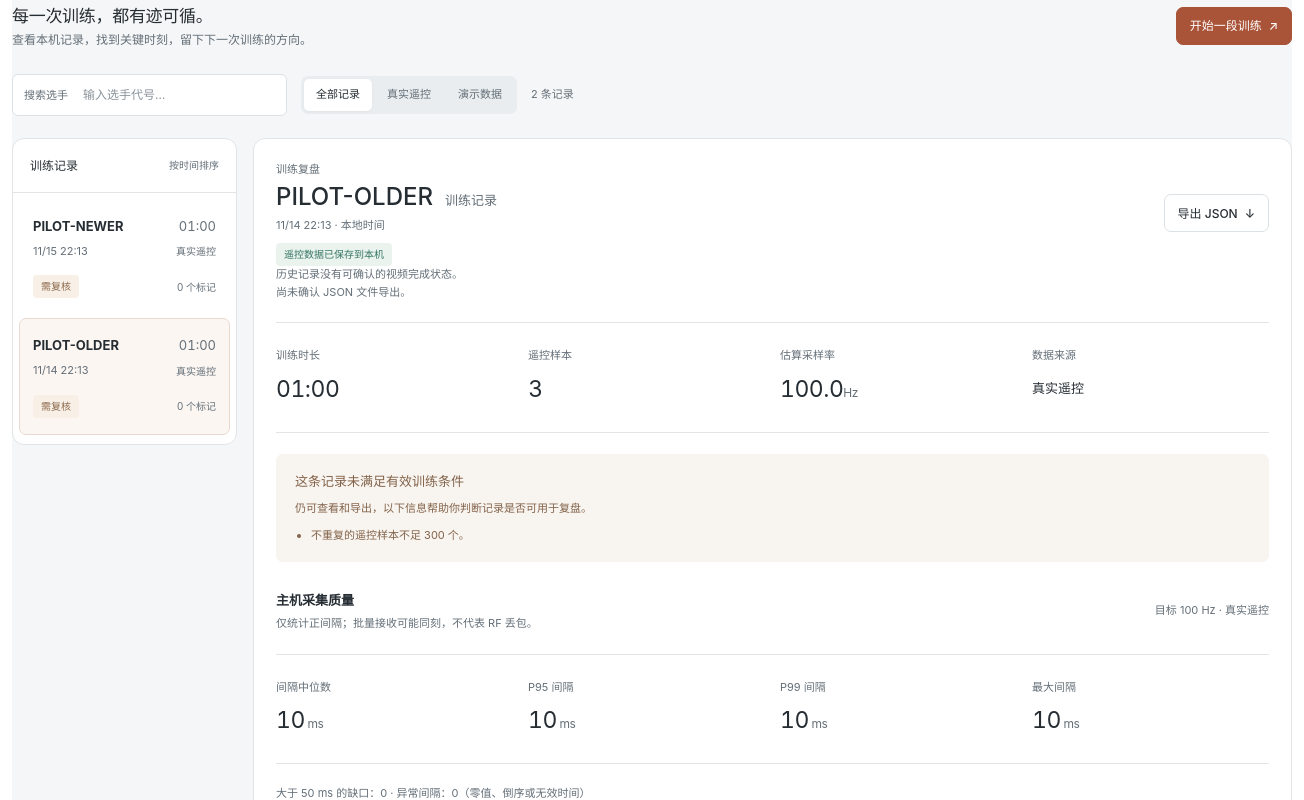
training library detail loading › ignores a late detail response after the selection has changed
Click the button "PILOT-NEWER 01:00 11/15 22:13 真实遥控 需复核 0 个标记".
click(124, 257)  # box [19,199,230,315]
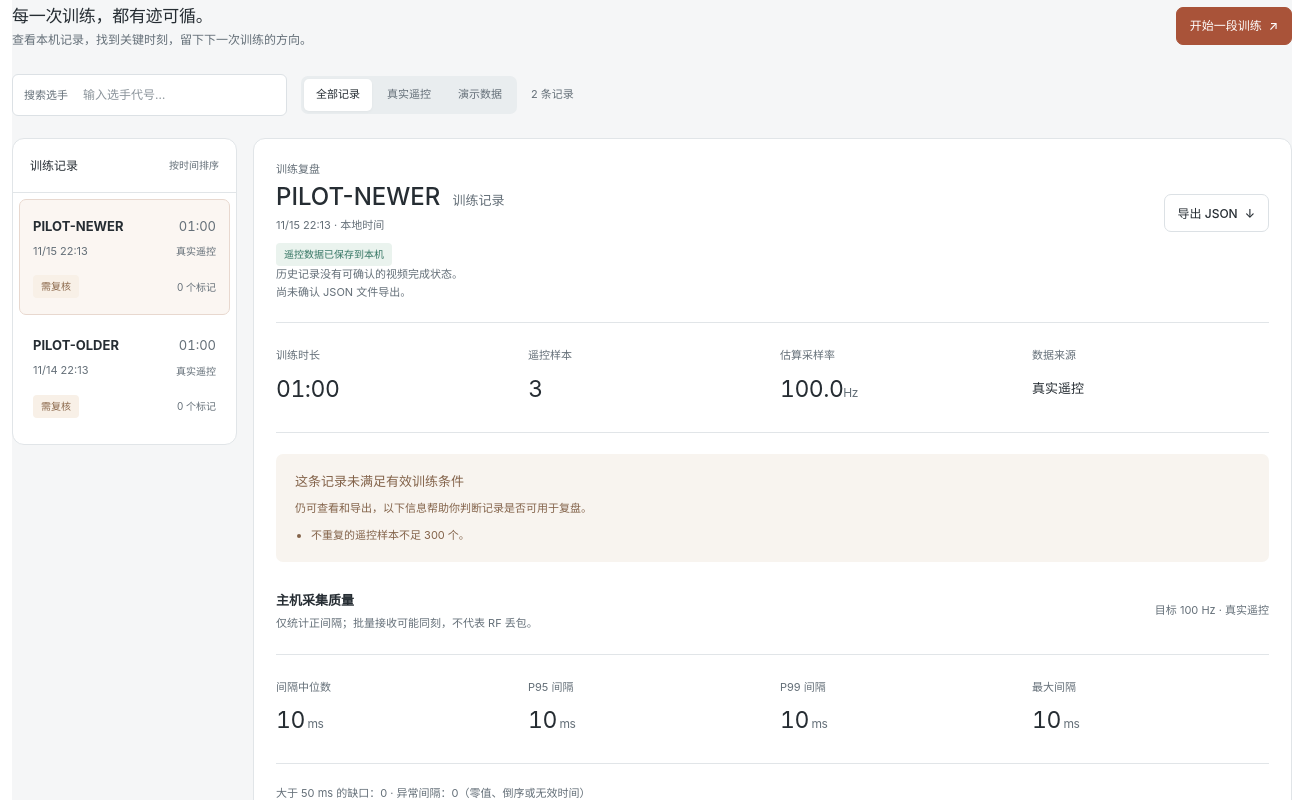
Check: the 2nd heading shows "PILOT-NEWER", box [276,182,440,211]
